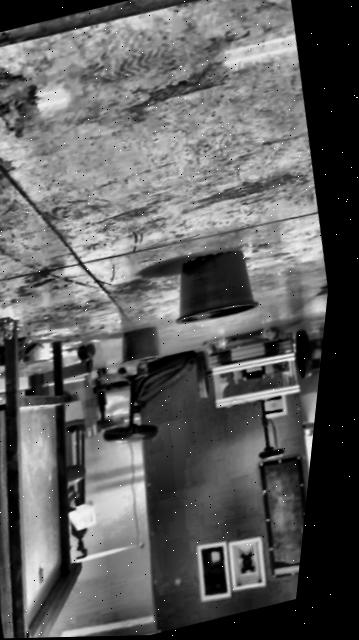pot: (161, 245, 264, 330), (112, 325, 164, 368)
